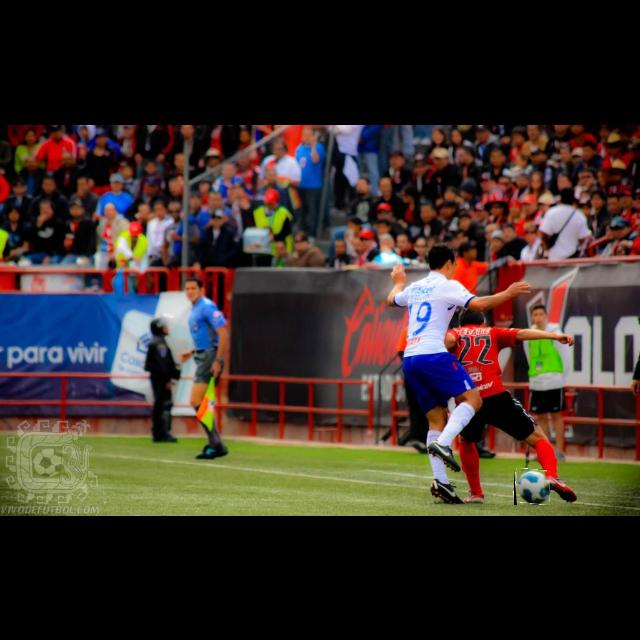Football: (514, 469, 550, 505)
